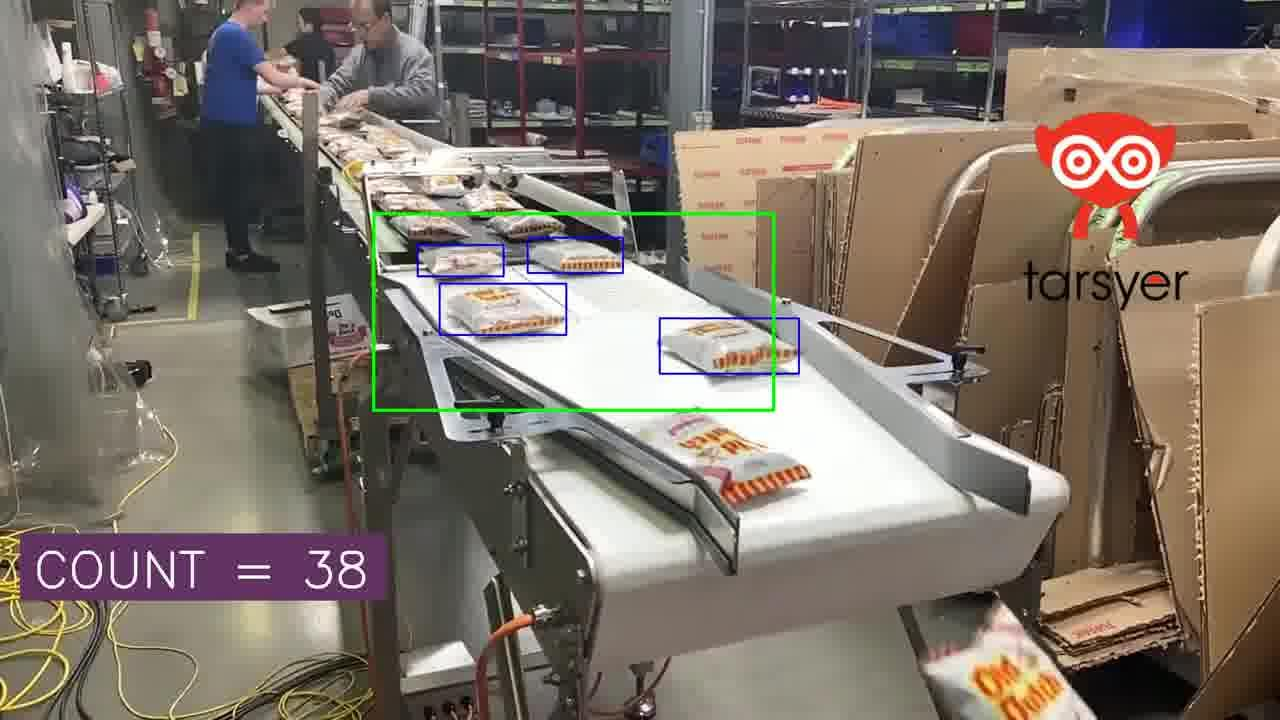Snack: (922, 603, 1095, 719), (643, 413, 810, 505), (446, 284, 564, 334), (662, 318, 773, 371), (530, 240, 622, 271), (420, 246, 503, 275), (388, 215, 468, 241), (487, 213, 564, 239), (461, 185, 524, 212), (366, 127, 414, 158), (366, 176, 420, 201), (325, 134, 376, 156), (379, 193, 440, 211), (335, 144, 382, 164), (424, 175, 466, 197), (319, 111, 366, 129), (318, 128, 349, 146)
